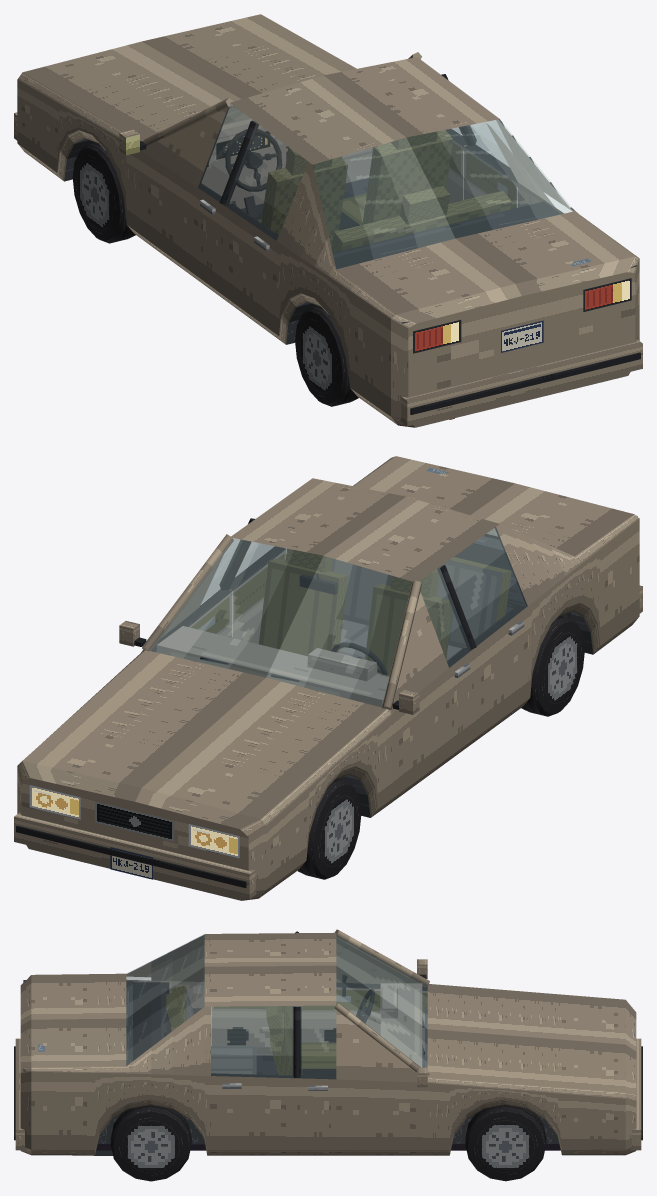
The model's file is VEH_Sedan_Traffic_Beige.glb.
3 views of the same model, one above another, from view 1: azimuth 30°, elevation 25°; view 2: azimuth 150°, elevation 25°; view 3: azimuth 270°, elevation 25° (orthographic). The views are drawn at different scales.
Parts seen in each view (by area): view 1: Body, Hood, Trunk, Door_FL, Door_RL, Wheel_RL, Wheel_FL, Door_RR, SteeringWheel, Door_FR; view 2: Body, Hood, Door_FL, Trunk, Door_RL, Wheel_FL, Wheel_RL, Door_FR, Door_RR; view 3: Body, Hood, Door_FR, Door_RR, Trunk, Wheel_RR, Wheel_FR, Door_FL, Door_RL.
Boxes of the visible parts, x1,y1,x2,y2 form: Body: (14,52,642,427); Hood: (23,14,356,141); Trunk: (336,211,634,314); Door_FL: (119,103,253,302); Door_RL: (222,121,307,342); Wheel_RL: (295,306,358,406); Wheel_FL: (72,142,135,243); Door_RR: (464,120,517,209); SteeringWheel: (225,129,282,191); Door_FR: (445,128,466,203); Body: (14,456,642,900); Hood: (22,650,386,818); Door_FL: (377,566,473,812); Trunk: (354,456,634,556); Door_RL: (442,527,527,747); Wheel_FL: (298,779,361,879); Wheel_RL: (521,616,584,716); Door_FR: (119,538,242,659); Door_RR: (229,542,286,643); Body: (14,929,642,1155); Hood: (427,984,625,1092); Door_FR: (297,1006,440,1155); Door_RR: (211,1006,297,1155); Trunk: (31,973,126,1067); Wheel_RR: (110,1105,191,1181); Wheel_FR: (465,1105,546,1181); Door_FL: (297,938,427,1052); Door_RL: (211,1006,296,1055).
Size of what is drawn, in the model's own units: 2.07 by 1.44 by 4.82.
3 materials, 3 textured.
